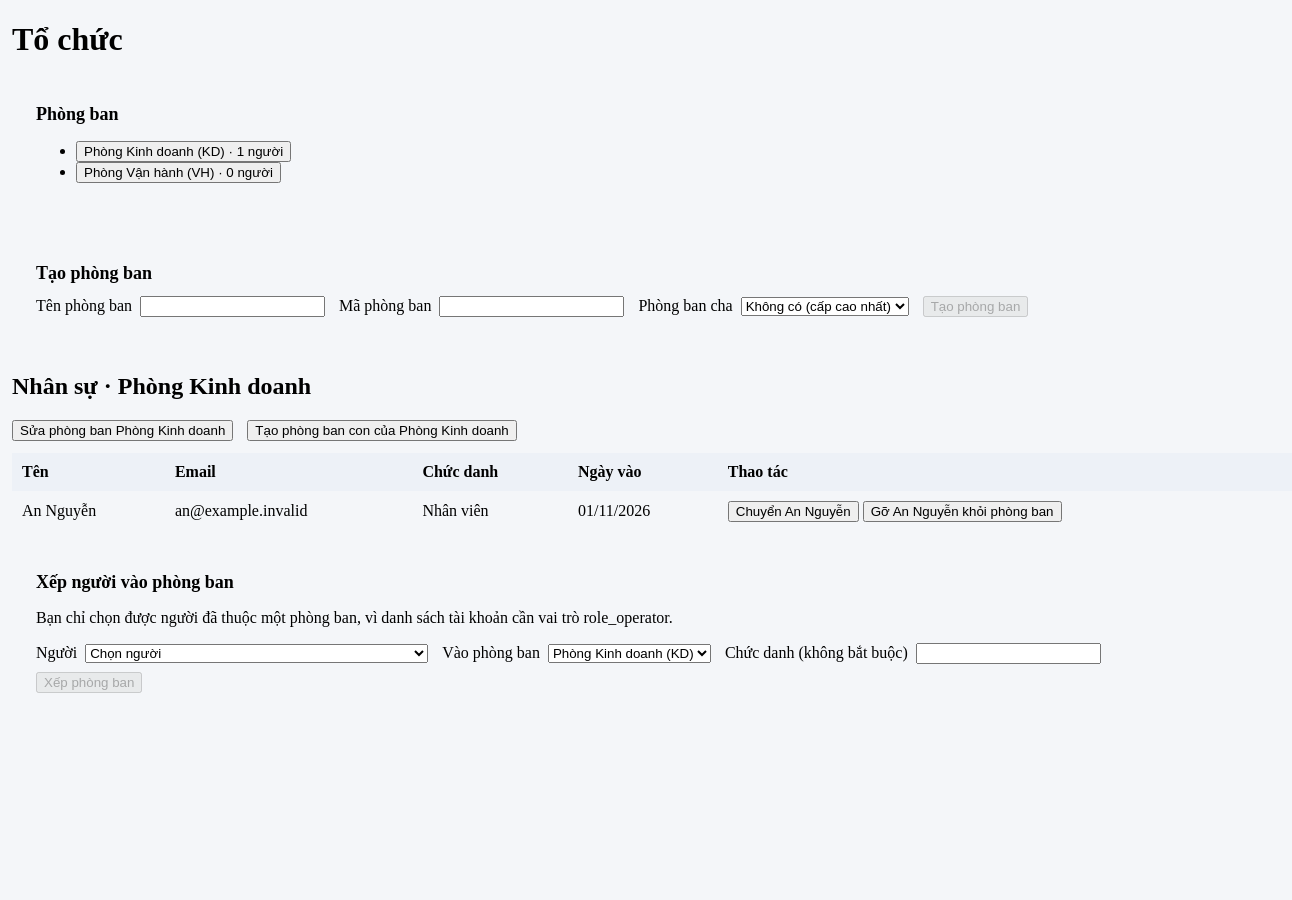
shows the tree and staff, creates a department under another, and shows a 409
This screenshot has width=1292, height=900.
Expected: the cell "An Nguyễn" is shown, [12,491,165,532]
Expected: the text "chỉ chọn được người đã thuộc một phòng ban" is shown, [36,609,673,626]
Click the button "Tạo phòng ban con của Phòng Kinh doanh".
click(382, 430)  # box [247,420,517,441]
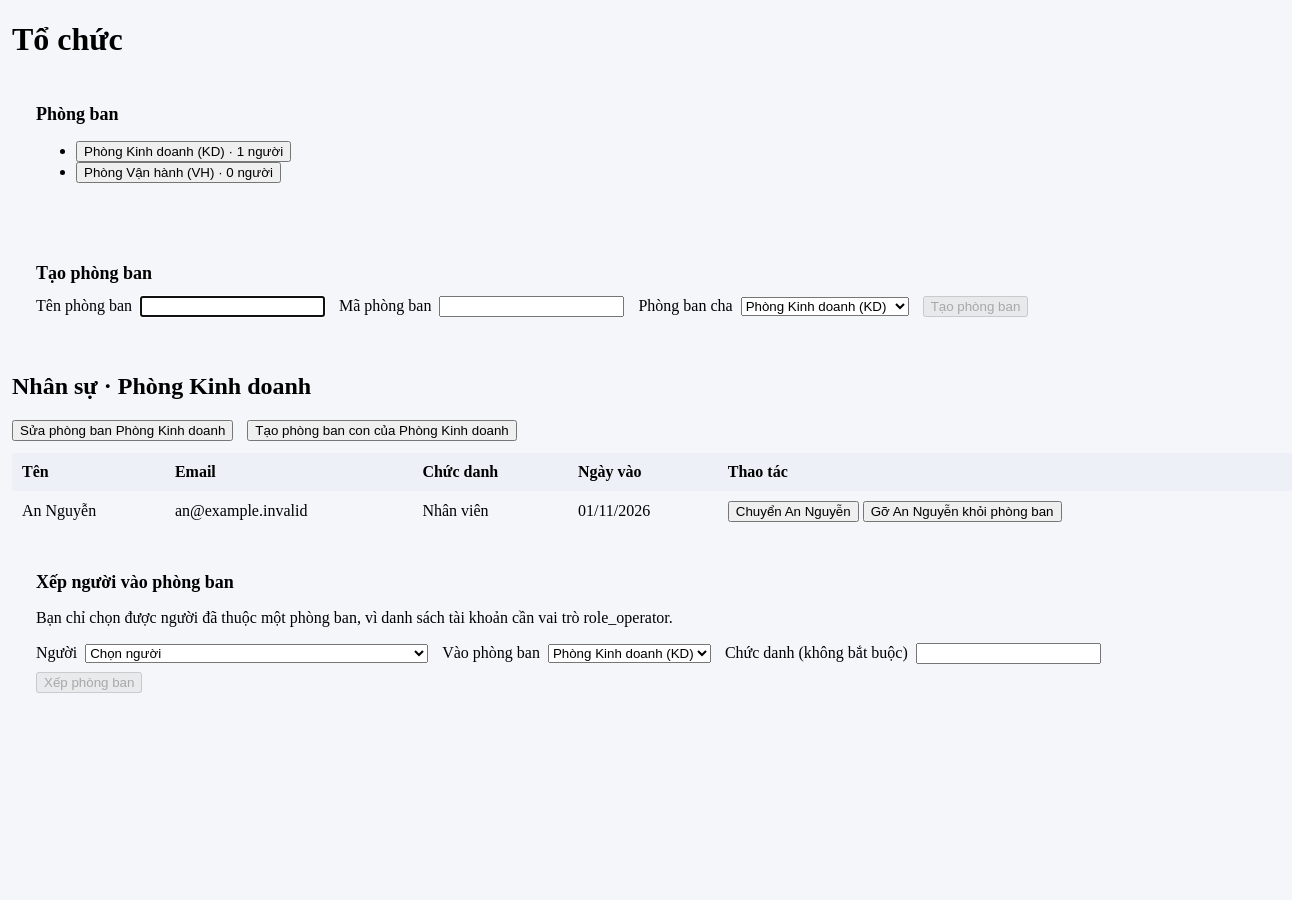
Type "Nhóm Miền Bắc" into the field labelled "Tên phòng ban".
click(232, 306); type("Nhóm Miền Bắc")  # box [140,296,325,317]
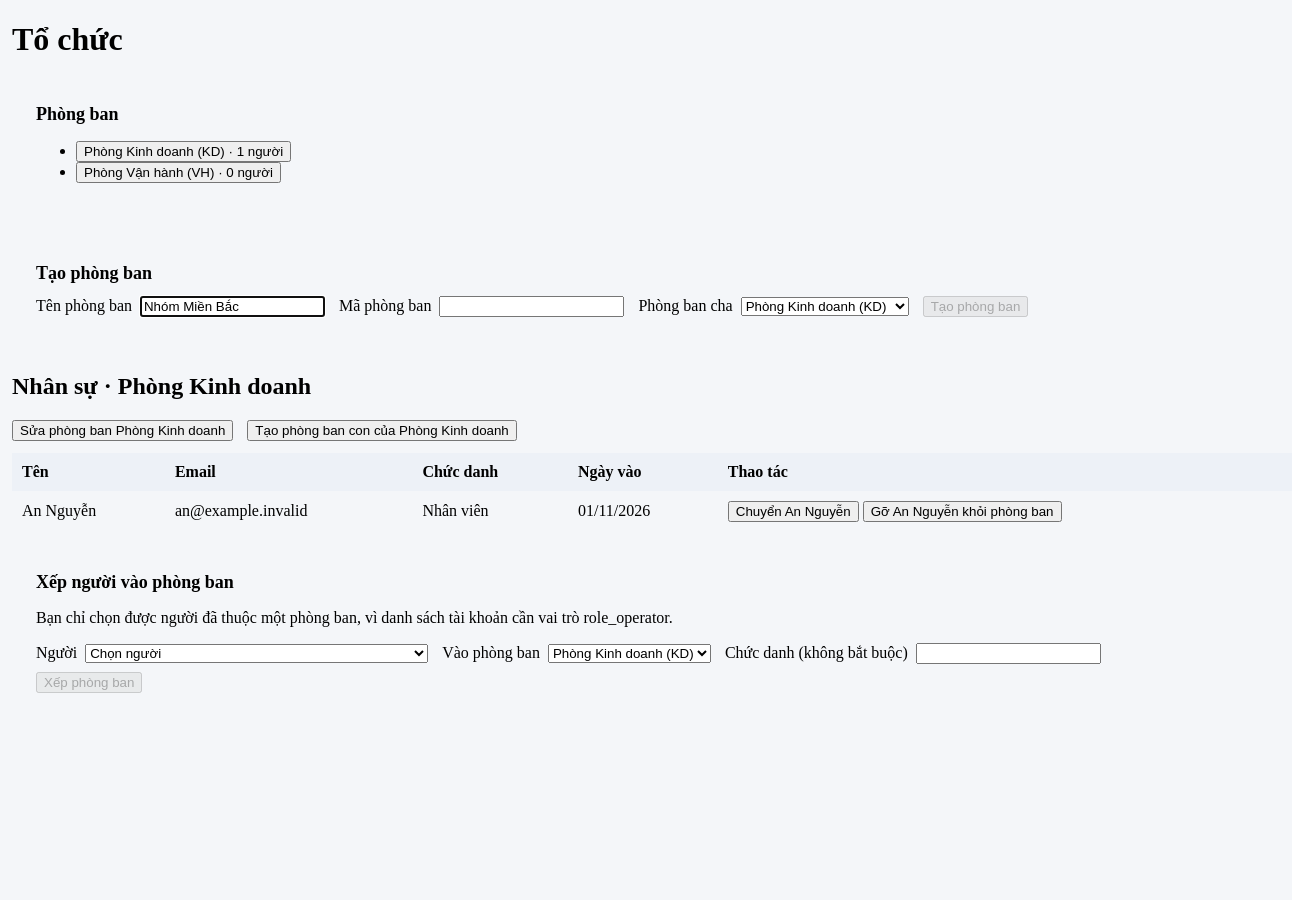
Type "KD" into the field labelled "Mã phòng ban".
click(532, 306); type("KD")  # box [439,296,624,317]
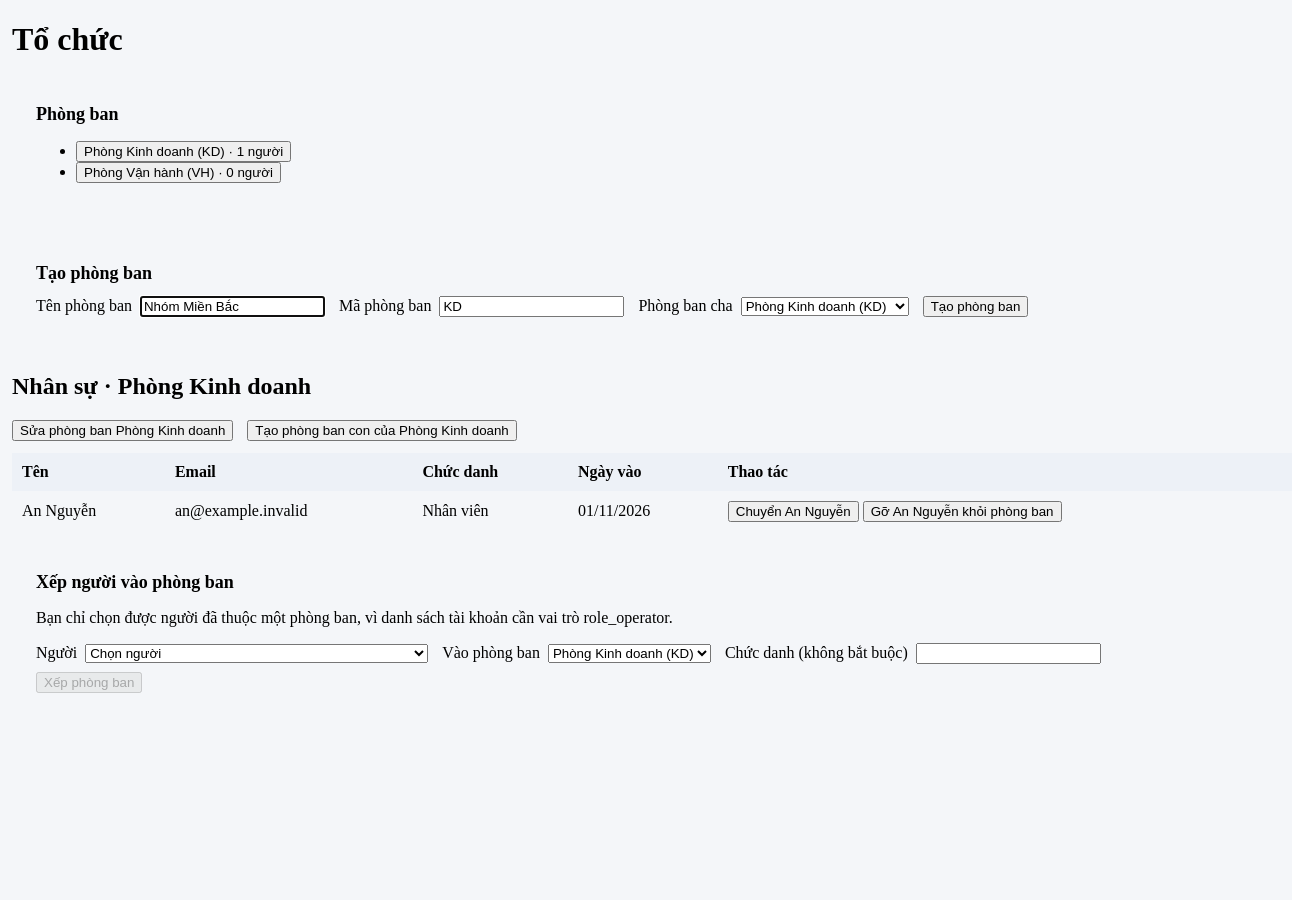
Click the button "Tạo phòng ban".
click(975, 306)  # box [923,296,1028,317]
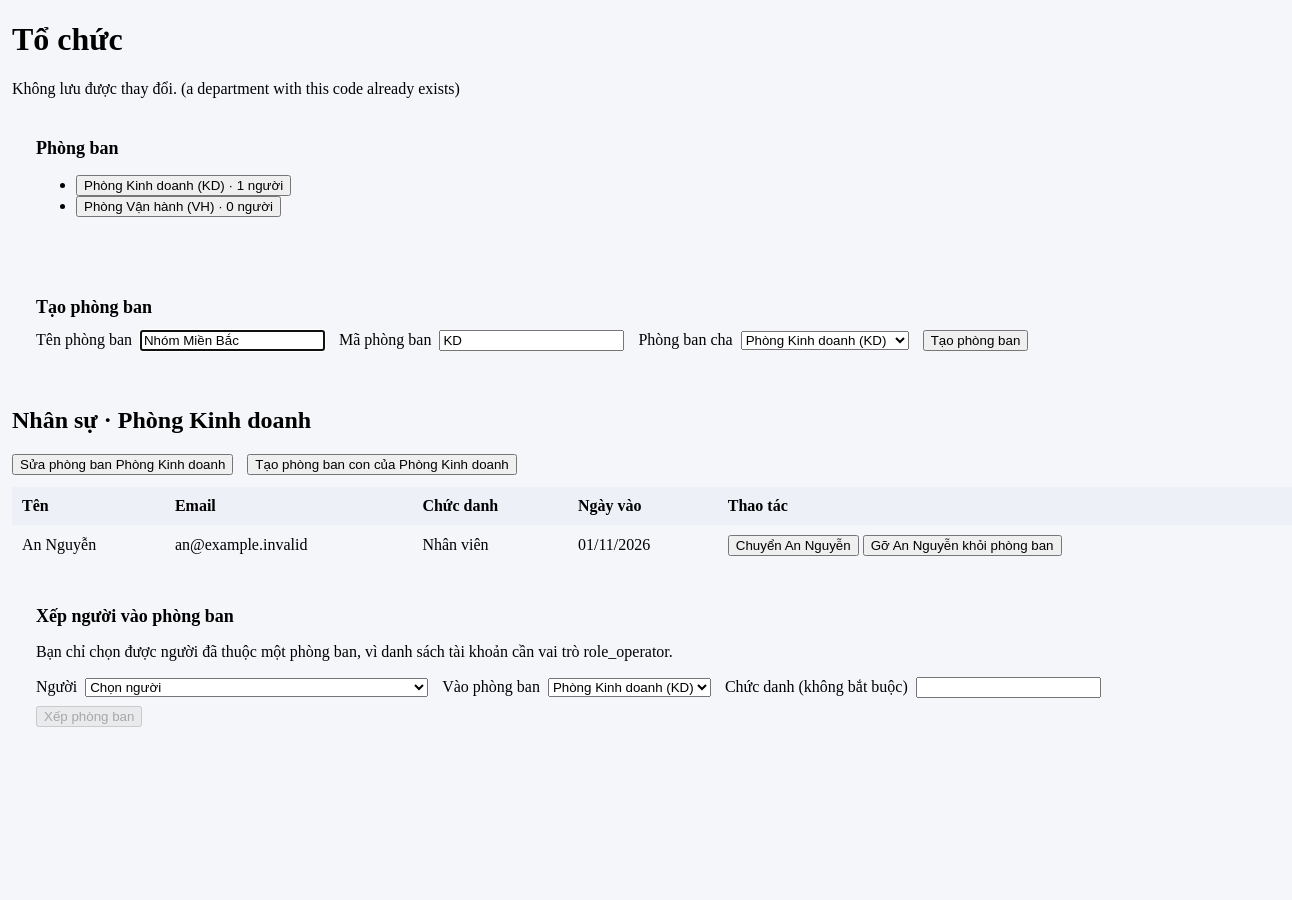
Expected: the message reads "Không lưu được thay đổi. (a department with this code already exists)", [12,80,460,97]
Replace the text in the field labelled "Mã phòng ban" with "KD-MB" at x=532, y=340, box [439,330,624,351]
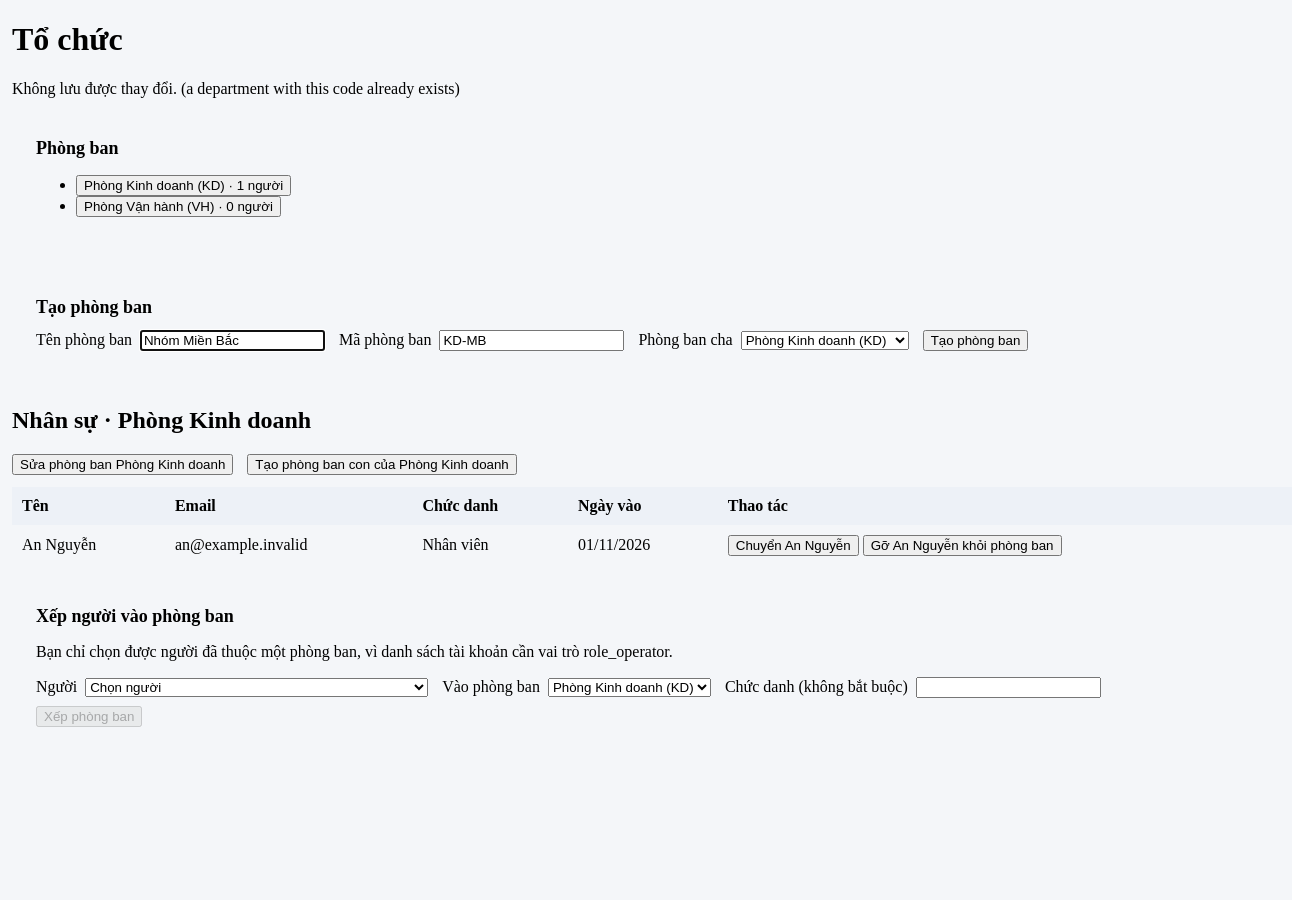
Click the button "Tạo phòng ban".
click(975, 340)  # box [923,330,1028,351]
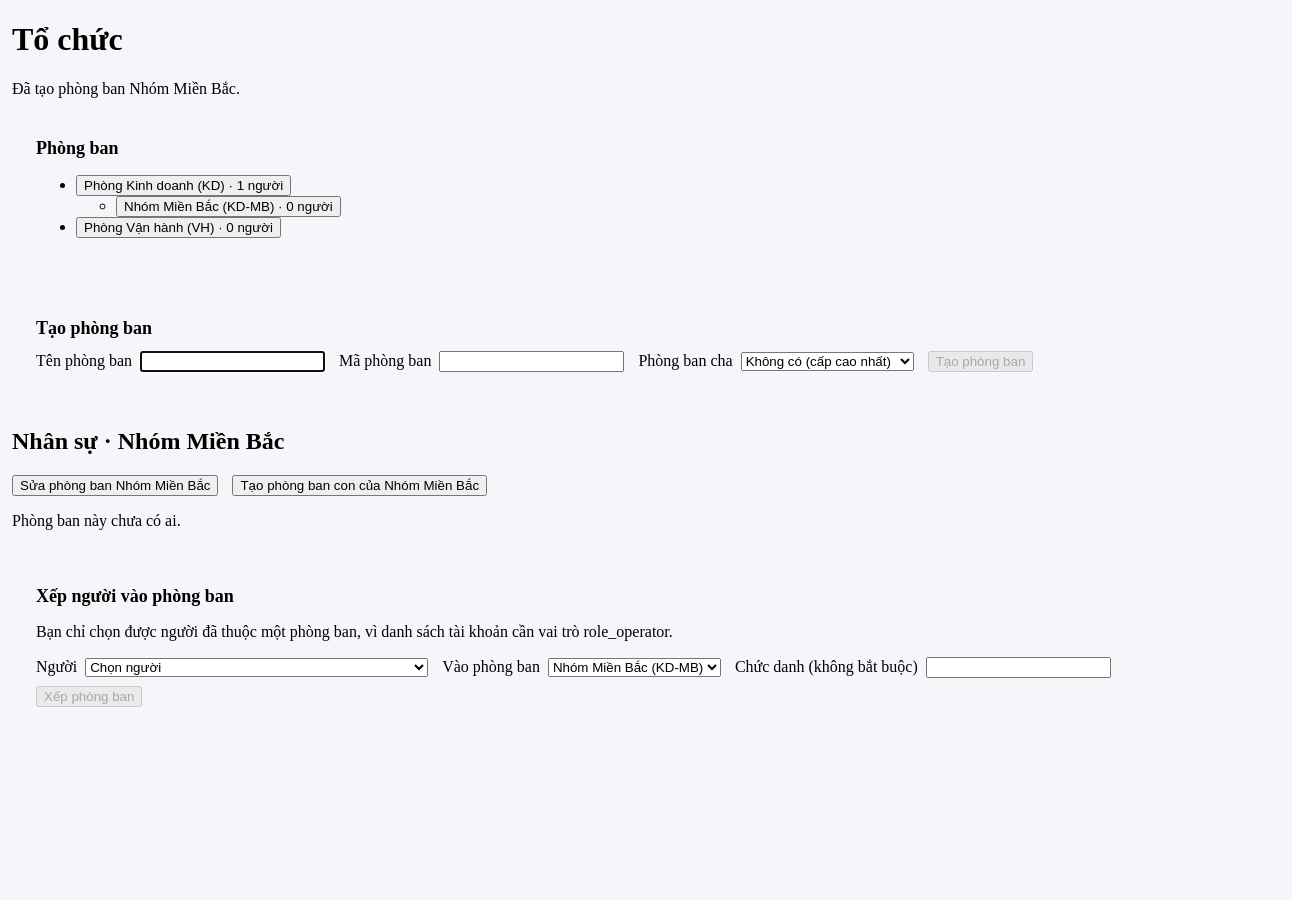
Expected: the message reads "Đã tạo phòng ban Nhóm Miền Bắc.", [12,80,240,97]
